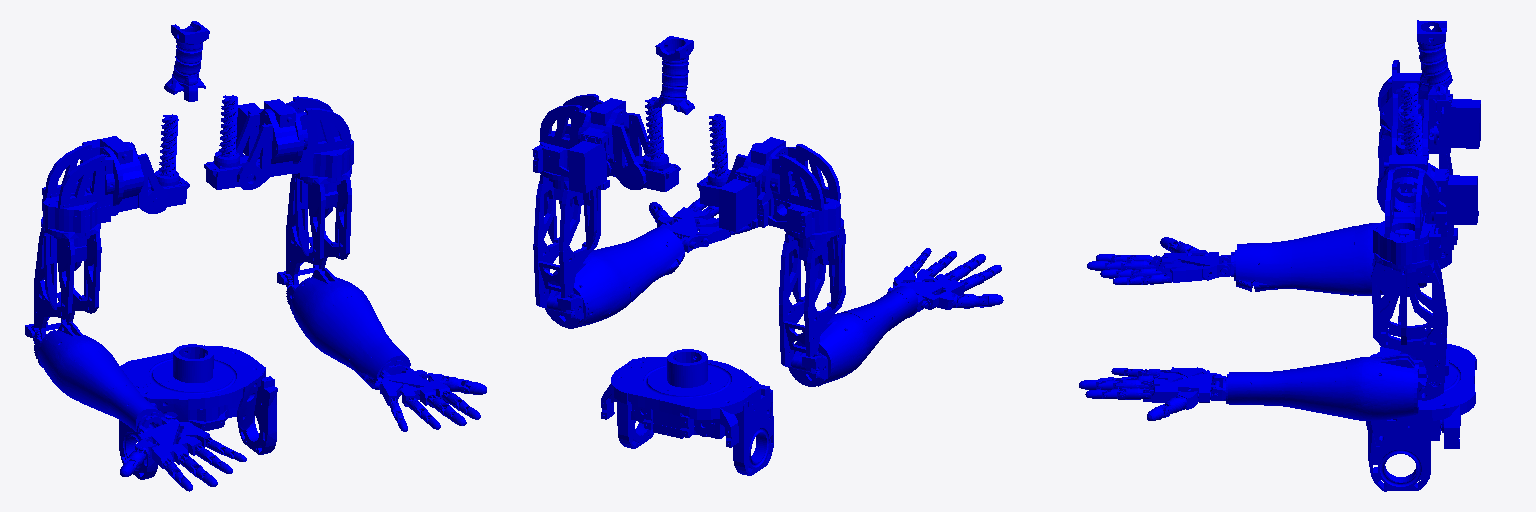
--- Render facts (derived) ---
3 views of the same robot in one strip: view 1: azimuth 30°, elevation 25°; view 2: azimuth 150°, elevation 25°; view 3: azimuth 270°, elevation 25° (orthographic).
Model RobotArm with 49 links and 48 joints (47 revolute, 1 fixed), rooted at base_link, posed joints at zero except 2 at the middle of their limits (joint_servobicipitesx2 = 0.15, joint_servobicipitedx2 = 0.25).
Visible links, largest first — view 1: base_link, avambracciosx_link, spallasx1_link, avambracciodx_link, bicipitedx_link, spalla2dx_link, bicipitesx_link, spalla1destra_link, spallasx2_link, handdx_link, collo_link, handsx_link; view 2: base_link, spallasx1_link, avambracciosx_link, bicipitedx_link, bicipitesx_link, spalla2dx_link, avambracciodx_link, spalla1destra_link, spallasx2_link, collo_link, handdx_link, handsx_link; view 3: avambracciosx_link, avambracciodx_link, base_link, bicipitesx_link, spallasx2_link, spalla1destra_link, spallasx1_link, collo_link, handdx_link, handsx_link, bicipitedx_link.
Link boxes in pixels (<box>): base_link: <box>119,344,277,479</box>; avambracciosx_link: <box>286,268,410,388</box>; spallasx1_link: <box>204,95,299,189</box>; avambracciodx_link: <box>34,321,165,431</box>; bicipitedx_link: <box>25,217,101,341</box>; spalla2dx_link: <box>42,143,123,232</box>; bicipitesx_link: <box>277,166,351,287</box>; spalla1destra_link: <box>82,114,189,213</box>; spallasx2_link: <box>286,96,353,177</box>; handdx_link: <box>137,412,213,468</box>; collo_link: <box>164,21,209,101</box>; handsx_link: <box>375,360,451,407</box>; base_link: <box>601,349,773,475</box>; spallasx1_link: <box>568,97,680,193</box>; avambracciosx_link: <box>545,227,684,328</box>; bicipitedx_link: <box>779,218,845,373</box>; bicipitesx_link: <box>533,171,600,313</box>; spalla2dx_link: <box>757,144,840,238</box>; avambracciodx_link: <box>788,286,917,386</box>; spalla1destra_link: <box>697,114,785,231</box>; spallasx2_link: <box>532,94,603,177</box>; collo_link: <box>653,36,694,114</box>; handdx_link: <box>887,266,966,317</box>; handsx_link: <box>660,206,713,252</box>; avambracciosx_link: <box>1228,354,1427,420</box>; avambracciodx_link: <box>1236,223,1426,295</box>; base_link: <box>1366,344,1476,491</box>; bicipitesx_link: <box>1371,253,1449,400</box>; spallasx2_link: <box>1373,166,1446,265</box>; spalla1destra_link: <box>1380,73,1480,159</box>; spallasx1_link: <box>1377,112,1478,228</box>; collo_link: <box>1417,20,1452,99</box>; handdx_link: <box>1150,250,1236,282</box>; handsx_link: <box>1142,367,1228,403</box>; bicipitedx_link: <box>1378,124,1457,268</box>.
Bounding box of the posed robot: 5.7 × 5.35 × 6.4 m (x, y, z).
44 mesh visuals loaded from 34 distinct referenced files (30 Collada DAE); not drawn: 5 (reference not matched to a file when rendering).

robot.urdf — RobotArm:
<?xml version="1.0"?>
<robot name="RobotArm">

    <material name="blue">                     
        <color rgba="0 0 1 1"/>
    </material>


    <link name="base_link">
        <visual>
            <geometry>
                 <mesh filename="package://inmoov_description/STL/stomaco_medio.dae" scale="0.009 0.009 0.009" />
            </geometry>
            <origin rpy="-1.56 3.12 3.13" xyz="1.86 0.02 1.94" />
            <material name="blue"/>
        </visual>
        <collision>
            <geometry>
               <mesh filename="package://inmoov_description/STL/stomaco_medio.dae" scale="0.009 0.009 0.009" />
            </geometry>
          <origin rpy="0 0 0" xyz="0 0 0" />
            <material name="blue"/>
        </collision>
    </link>

    <joint name="joint_stomaco" type="revolute">
        <parent link="base_link"/>
        <child link="stomaco_link"/>
      <origin rpy="-1.56 0.02 0" xyz="1.35 -0.37 2.05" />
        <axis xyz="0 1 0"/>
        <limit effort="1000" lower="-0.5" upper="0.5" velocity="5"/>
    </joint>

<link name="stomaco_link">
        <visual>
            <geometry>
                 <mesh filename="package://inmoov_description/STL/stomaco_alto.dae" scale="0.009 0.009 0.009" />
            </geometry>
            <origin rpy="0.05 0 0" xyz="-0.54 0.1 -0.35" />
            <material name="blue"/>
        </visual>
        <collision>
            <geometry>
               <mesh filename="package://inmoov_description/STL/stomaco_alto.dae" scale="0.009 0.009 0.009" />
            </geometry>
          <origin rpy="0 0 0" xyz="0 0 0" />
            <material name="blue"/>
        </collision>
    </link>

 <joint name="joint_torso" type="revolute">
        <parent link="stomaco_link"/>
        <child link="torso_link"/>
      <origin rpy="1.56 0.02 0" xyz="-0.05 -1 0" />
        <axis xyz="0 1 0"/>
        <limit effort="1000" lower="-0.15" upper="0.15" velocity="5"/>
    </joint>

<link name="torso_link">
        <visual>
            <geometry>
                 <mesh filename="package://inmoov_description/STL/busto.dae" scale="0.009 0.009 0.009" />
            </geometry>
            <origin rpy="0 0 0" xyz="0 -0.32 2.5" />
            <material name="blue"/>
        </visual>
        <collision>
            <geometry>
               <mesh filename="package://inmoov_description/STL/busto.dae" scale="0.009 0.009 0.009" />
            </geometry>
          <origin rpy="0 0 0" xyz="0 0 0" />
            <material name="blue"/>
        </collision>
    </link>

<joint name="joint_collo" type="fixed">
        <parent link="torso_link"/>
        <child link="collo_link"/>
      <origin rpy="1.56 0.02 0" xyz="0 0 0" />
        <axis xyz="0 1 0"/>
        <limit effort="1000" lower="-0.12" upper="0.12" velocity="5"/>
    </joint>

<link name="collo_link">
        <visual>
            <geometry>
                 <mesh filename="package://inmoov_description/STL/collo.dae" scale="0.009 0.009 0.009" />
            </geometry>
            <origin rpy="0 0 0" xyz="-0.069 4.055 -0.255" />
            <material name="blue"/>
        </visual>
        <collision>
            <geometry>
               <mesh filename="package://inmoov_description/STL/collo.dae" scale="0.009 0.009 0.009" />
            </geometry>
          <origin rpy="0 0 0" xyz="0 0 0" />
            <material name="blue"/>
        </collision>
    </link>

<joint name="joint_testa" type="revolute">
        <parent link="collo_link"/>
        <child link="testa_link"/>
      <origin rpy="0 0 0" xyz="-0.07 4.05 -0.21" />
        <axis xyz="1 0 0"/>
        <limit effort="1000" lower="-0.2" upper="0.2" velocity="5"/>
    </joint>

<link name="testa_link">
        <visual>
            <geometry>
                 <mesh filename="package://inmoov_description/STL/testa.dae" scale="0.009 0.009 0.009" />
            </geometry>
            <origin rpy="0 0 0" xyz="0 0 0" />
            <material name="blue"/>
        </visual>
        <collision>
            <geometry>
               <mesh filename="package://inmoov_description/STL/testa.dae" scale="0.009 0.009 0.009" />
            </geometry>
          <origin rpy="0 0 0" xyz="0 0 0" />
            <material name="blue"/>
        </collision>
    </link>


 
 <joint name="spallatorsosx2_joint" type="revolute">
        <parent link="torso_link"/>
        <child link="spallasx1_link"/>
      <origin rpy="0 0 0" xyz="1.25 0.535 2.6" />
        <axis xyz="0 1 0"/>
        <limit effort="1000" lower="-0.5" upper="0" velocity="5"/>
    </joint>

<link name="spallasx1_link">
        <visual>
            <geometry>
<mesh filename="package://inmoov_description/STL/spallasinistraparte2a.dae" scale="0.009 0.009 0.009" />
            </geometry>
            <origin rpy="4.7 4.747 -0.03" xyz="0.11 -1 -0.91" />
            <material name="blue"/>
        </visual>
        <collision>
            <geometry>
               <mesh filename="package://inmoov_description/STL/spallasinistraparte2a.dae" scale="0.009 0.009 0.009" />
            </geometry>
          <origin rpy="0 0 0" xyz="0 0 0" />
            <material name="blue"/>
        </collision>
    </link>

    <joint name="joint_spallasx" type="revolute">
        <parent link="spallasx1_link"/>
        <child link="spallasx2_link"/>
      <origin rpy="0 0 -0.02" xyz="0.61 -0.66 -0.31" />
        <axis xyz="1 0 0"/>
        <limit effort="1000" lower="-0.4" upper="0.4" velocity="5"/>
    </joint> 

<link name="spallasx2_link">
        <visual>
            <geometry>
<mesh filename="package://inmoov_description/STL/spallasxparte1b.dae" scale="0.009 0.009 0.009" />
            </geometry>
            <origin rpy="4.7 4.747 -0.03" xyz="-0.50 -0.34 -0.6" />
            <material name="blue"/>
        </visual>
        <collision>
            <geometry>
               <mesh filename="package://inmoov_description/STL/spallasxparte1b.dae" scale="0.009 0.009 0.009" />
            </geometry>
          <origin rpy="0 0 0" xyz="0 0 0" />
            <material name="blue"/>
        </collision>
    </link>

    <joint name="joint_bicipitesx" type="revolute">
        <parent link="spallasx2_link"/>
        <child link="bicipitesx_link"/>
      <origin rpy="0 0 0" xyz="0.165 0.06 -2.595" />
        <axis xyz="0 0 1"/>
        <limit effort="1000" lower="0" upper="0.5" velocity="5"/>
    </joint>  

  <link name="bicipitesx_link">
        <visual>
            <geometry>
                 <mesh filename="package://inmoov_description/STL/bicipitesxtelaio.dae" scale="0.009 0.009 0.009" />
            </geometry>
            <origin rpy="4.7 0 -0.03" xyz="-1.028 -0.36 2.01" />
            <material name="blue"/>
        </visual>
        <collision>
            <geometry>
               <mesh filename="package://inmoov_description/STL/bicipitesxtelaio.dae" scale="0.009 0.009 0.009" />
            </geometry>
          <origin rpy="0 0 0" xyz="0 0 0" />
            <material name="blue"/>
        </collision>
    </link>

<joint name="joint_servobicipitesx2" type="revolute">
        <parent link="avambracciosx_link"/>
        <child link="servobicipitesx_link"/>
      <origin rpy="0 0 0" xyz="-0.14 -0.15 0.4" />
        <axis xyz="1 0 0"/>
        <limit effort="1000" lower="0.15" upper="0.15" velocity="5"/>
    </joint> 

  <link name="servobicipitesx_link">
        <visual>
            <geometry>
                 <mesh filename="package://inmoov_description/STL/servomotoresinistrobicipite.dae" scale="0.009 0.009 0.009" />
            </geometry>
            <origin rpy="4.7 0 -0.03" xyz="-1.02 -0.455 1.64" />
            <material name="blue"/>
        </visual>
        <collision>
            <geometry>
               <mesh filename="package://inmoov_description/STL/servomotoresinistrobicipite.dae" scale="0.009 0.009 0.009" />
            </geometry>
          <origin rpy="0 0 0" xyz="0 0 0" />
            <material name="blue"/>
        </collision>
    </link>


    <joint name="joint_avambracciosx" type="revolute">
        <parent link="bicipitesx_link"/>
        <child link="avambracciosx_link"/>
      <origin rpy="0 0 0" xyz="0.16 0.23 -0.04" />
        <axis xyz="1 0 0"/>
        <limit effort="1000" lower="-0.3" upper="0" velocity="5"/>
    </joint>  

  <link name="avambracciosx_link">
        <visual>
            <geometry>
                 <mesh filename="package://inmoov_description/STL/avambraccio_sx.dae" scale="0.009 0.009 0.009" />
            </geometry>
            <origin rpy="0 8.75 0" xyz="-0.14 -0.11 -0.13" />
            <material name="blue"/>
        </visual>
        <collision>
            <geometry>
               <mesh filename="package://inmoov_description/STL/avambraccio_sx.dae" scale="0.009 0.009 0.009" />
            </geometry>
          <origin rpy="0 0 0" xyz="0 0 0" />
            <material name="blue"/>
        </collision>
    </link>

    <joint name="joint_mano_sx" type="revolute">
        <parent link="avambracciosx_link"/>
        <child link="handsx_link"/>
      <origin rpy="0 0 0" xyz="-0.34 -0.12 -0.13" />
        <axis xyz="0 1 0"/>
        <limit effort="1000" lower="-1.5" upper="0" velocity="5"/>
    </joint>

<link name="handsx_link">
        <visual>
            <geometry>
                 <mesh filename="package://inmoov_description/STL/mano_sinistra.dae" scale="0.009 0.009 0.009" />
            </geometry>
            <origin rpy="0 1.6 1.55" xyz="0.026 -2.47 0.03" />
            <material name="blue"/>
        </visual>
        <collision>
            <geometry>
               <mesh filename="package://inmoov_description/STL/mano_sinistra.dae" scale="0.009 0.009 0.009" />
            </geometry>
          <origin rpy="7 0 0" xyz="0 -2.4 0" />
            <material name="blue"/>
        </collision>
    </link>

    <joint name="joint_pollice1sx" type="revolute">
        <parent link="handsx_link"/>
        <child link="pollice1sx_link"/>
     <origin rpy="0 0 0" xyz="0.3 -3 0.05" />
        <axis xyz="0 1 0"/>
        <limit effort="1000" lower="-0.5" upper="0" velocity="5"/>
    </joint>


    <link name="pollice1sx_link">
        <visual>
            <geometry>
                 <mesh filename="package://inmoov_description/STL/pollice_sx_1.dae" scale="0.009 0.009 0.009" />
            </geometry>
            <origin rpy="0.25 1.5 1.7" xyz="0 0 0" />
            <material name="blue"/>
        </visual>
        <collision>
            <geometry>
               <mesh filename="package://inmoov_description/STL/pollice_sx_1.dae" scale="0.009 0.009 0.009" />
            </geometry>
           <origin rpy="-3.25 -12.5 3.2" xyz="0.2 -3 -0.2" />
            <material name="blue"/>
        </collision>
    </link>


    <joint name="joint_pollice2sx" type="revolute">
        <parent link="pollice1sx_link"/>
        <child link="pollice2sx_link"/>
        <origin rpy="4.9 1.3 1" xyz="0.2 -0.1 0" />
         <axis xyz="0 1 0"/>
 <limit effort="1000" lower="0" upper="1.5" velocity="5"/>
    </joint>


<link name="pollice2sx_link">
        <visual>
            <geometry>
                 <mesh filename="package://inmoov_description/STL/pollice_2.dae" scale="0.009 0.009 0.009" />
            </geometry>
            <origin xyz="0.0 0.0 0.0175"/>
            <material name="blue"/>
        </visual>
        <collision>
            <geometry>
               <mesh filename="package://inmoov_description/STL/pollice_2.dae" scale="0.009 0.009 0.009" />
            </geometry>
             <origin rpy="0 0 0" xyz="0 0 0" />
            <material name="blue"/>
        </collision>
    </link>

    <joint name="joint_pollice3sx" type="revolute">
        <parent link="pollice2sx_link"/>
        <child link="pollice3sx_link"/>
       <origin rpy="0 0 0" xyz="0 0 -0.3" />
        <axis xyz="0 1 0"/>
        <limit effort="1000" lower="0" upper="1.5" velocity="5"/>
    </joint>

<link name="pollice3sx_link">
        <visual>
            <geometry>
                 <mesh filename="package://inmoov_description/STL/pollice_3.dae" scale="0.009 0.009 0.009" />
            </geometry>
            <origin xyz="0 0 0"/>
            <material name="blue"/>
        </visual>
        <collision>
            <geometry>
               <mesh filename="package://inmoov_description/STL/pollice_3.dae" scale="0.009 0.009 0.009" />
            </geometry>
           <origin rpy="9.4 0 0" xyz="0 0 0" />
            <material name="blue"/>
        </collision>
    </link>    

    <joint name="joint_indice1sx" type="revolute">
        <parent link="handsx_link"/>
        <child link="indice1sx_link"/>
      <origin rpy="0 -4.7 -1.53" xyz="0.31 -3.553 0.08" />
      <axis xyz="0 1 0"/>
 <limit effort="1000" lower="-1" upper="0" velocity="5"/>
    </joint>

   <link name="indice1sx_link">
        <visual>
            <geometry>
                 <mesh filename="package://inmoov_description/STL/indice1.dae" scale="0.009 0.009 0.009" />
            </geometry>
             <origin rpy="0 0 0" xyz="0 0 0.32" />
            <material name="blue"/>
        </visual>
        <collision>
            <geometry>
               <mesh filename="package://inmoov_description/STL/indice1.dae" scale="0.009 0.009 0.009" />
            </geometry>
            <origin rpy="0 0 0" xyz="0 0 0.32" />
            <material name="blue"/>
        </collision>
    </link> 

    <joint name="joint_indice2sx" type="revolute">
        <parent link="indice1sx_link"/>
        <child link="indice2sx_link"/>
        <origin rpy="0 0 0" xyz="0 0 0.35" />
        <axis xyz="0 1 0"/>
         <limit effort="1000" lower="-1.5" upper="0" velocity="5"/>
    </joint>

    <link name="indice2sx_link">
        <visual>
            <geometry>
                 <mesh filename="package://inmoov_description/STL/indice2.dae" scale="0.009 0.009 0.009" />
            </geometry>
            <origin rpy="9.4 0 0" xyz="0 0 -0.025" />
            <material name="blue"/>
        </visual>
        <collision>
            <geometry>
               <mesh filename="package://inmoov_description/STL/indice2.dae" scale="0.009 0.009 0.009" />
            </geometry>
           <origin rpy="9.4 0 0" xyz="0 0 -0.025" />
            <material name="blue"/>
        </collision>
    </link> 

    <joint name="joint_indice3sx" type="revolute">
        <parent link="indice2sx_link"/>
        <child link="indice3sx_link"/>
      <origin rpy="0 0 0" xyz="0 0.005 0.2" />
      <axis xyz="0 1 0"/>
  <limit effort="1000" lower="-1.5" upper="0" velocity="5"/>
    </joint>

    <link name="indice3sx_link">
        <visual>
            <geometry>
                 <mesh filename="package://inmoov_description/STL/indice3.dae" scale="0.009 0.009 0.009" />
            </geometry>
            <origin rpy="9.4 0 0" xyz="0 0 -0.01" />
            <material name="blue"/>
        </visual>
        <collision>
            <geometry>
               <mesh filename="package://inmoov_description/STL/indice3.dae" scale="0.009 0.009 0.009" />
            </geometry>
             <origin rpy="9.4 0 0" xyz="0 0 -0.01" />
            <material name="blue"/>
        </collision>
    </link> 

    <joint name="joint_medio1sx" type="revolute">
        <parent link="handsx_link"/>
        <child link="medio1sx_link"/>
       <origin rpy="0 -4.7 -1.565" xyz="0.065 -3.58 0.08" />
        <axis xyz="0 1 0"/>
       <limit effort="1000" lower="-1.5" upper="0" velocity="5"/>
    </joint>

    <link name="medio1sx_link">
        <visual>
            <geometry>
                 <mesh filename="package://inmoov_description/STL/medio_1.dae" scale="0.009 0.009 0.009" />
            </geometry>
           <origin rpy="0 0 0" xyz="0 0 0.35" />
            <material name="blue"/>
        </visual>
        <collision>
            <geometry>
               <mesh filename="package://inmoov_description/STL/medio_1.dae" scale="0.009 0.009 0.009" />
            </geometry>
             <origin rpy="0 0 0" xyz="0 0 0.35" />
            <material name="blue"/>
        </collision>
    </link> 

    <joint name="joint_medio2sx" type="revolute">
        <parent link="medio1sx_link"/>
        <child link="medio2sx_link"/>
          <origin rpy="0 0 0" xyz="0 0 0.35" />
        <axis xyz="0 1 0"/>
         <limit effort="1000" lower="-1.5" upper="0" velocity="5"/>
    </joint>

    <link name="medio2sx_link">
        <visual>
            <geometry>
                 <mesh filename="package://inmoov_description/STL/medio_2.dae" scale="0.009 0.009 0.009" />
            </geometry>
              <origin rpy="9.4 0 0" xyz="0 0 0.015" />
            <material name="blue"/>
        </visual>
        <collision>
            <geometry>
               <mesh filename="package://inmoov_description/STL/medio_2.dae" scale="0.009 0.009 0.009" />
            </geometry>
             <origin rpy="9.4 0 0" xyz="0 0 0.015" />
            <material name="blue"/>
        </collision>
    </link> 

    <joint name="joint_medio3sx" type="revolute">
        <parent link="medio2sx_link"/>
        <child link="medio3sx_link"/>
         <origin rpy="0 0 0" xyz="0 0 0.22" />
      <axis xyz="0 1 0"/>
  <limit effort="1000" lower="-1.5" upper="0" velocity="5"/>
    </joint>

    <link name="medio3sx_link">
        <visual>
            <geometry>
                 <mesh filename="package://inmoov_description/STL/medio_3.dae" scale="0.009 0.009 0.009" />
            </geometry>
             <origin rpy="9.4 0 0" xyz="0 0 0.02" />
            <material name="blue"/>
        </visual>
        <collision>
            <geometry>
               <mesh filename="package://inmoov_description/STL/medio_3.dae" scale="0.009 0.009 0.009" />
            </geometry>
             <origin rpy="9.4 0 0" xyz="0 0 0.02" />
            <material name="blue"/>
        </collision>
    </link> 

   <joint name="joint_anularesx1" type="revolute">
        <parent link="handsx_link"/>
        <child link="anulare1sx_link"/>
       <origin rpy="-0.7 1.5 1.5" xyz="0 -3.2 0.05" />
        <axis xyz="0 0 1"/>
           <limit effort="1000" lower="0" upper="0.5" velocity="5"/>
    </joint>

    <link name="anulare1sx_link">
        <visual>
            <geometry>
                 <mesh filename="package://inmoov_description/STL/anulare_sx_1.dae" scale="0.009 0.009 0.009" />
            </geometry>
           <origin rpy="0 0 0" xyz="0 0 0.05" />
            <material name="blue"/>
        </visual>
        <collision>
            <geometry>
               <mesh filename="package://inmoov_description/STL/anulare_sx_1.dae" scale="0.009 0.009 0.009" />
            </geometry>
             <origin rpy="0 0 0" xyz="0 0 0.35" />
            <material name="blue"/>
        </collision>
    </link> 

    <joint name="joint_anulare2sx" type="revolute">
        <parent link="anulare1sx_link"/>
        <child link="anulare2sx_link"/>
          <origin rpy="-2.5 0 0" xyz="0 0.3 -0.08" />
        <axis xyz="0 1 0"/>
         <limit effort="1000" lower="-1.5" upper="0" velocity="5"/>
    </joint>

    <link name="anulare2sx_link">
        <visual>
            <geometry>
                 <mesh filename="package://inmoov_description/STL/anulare_2.dae" scale="0.009 0.009 0.009" />
            </geometry>
              <origin rpy="9.4 0 0" xyz="0 0 0" />
            <material name="blue"/>
        </visual>
        <collision>
            <geometry>
               <mesh filename="package://inmoov_description/STL/anulare_2.dae" scale="0.009 0.009 0.009" />
            </geometry>
             <origin rpy="9.4 0 0" xyz="0 0 0" />
            <material name="blue"/>
        </collision>
    </link> 

    <joint name="joint_anulare3sx" type="revolute">
        <parent link="anulare2sx_link"/>
        <child link="anulare3sx_link"/>
         <origin rpy="0 0 0" xyz="0 0 0.32" />
      <axis xyz="0 1 0"/>
  <limit effort="1000" lower="-1.5" upper="0" velocity="5"/>
    </joint>

    <link name="anulare3sx_link">
        <visual>
            <geometry>
                 <mesh filename="package://inmoov_description/STL/anulare_3.dae" scale="0.009 0.009 0.009" />
            </geometry>
             <origin rpy="9.4 0 0" xyz="0 0 0" />
            <material name="blue"/>
        </visual>
        <collision>
            <geometry>
               <mesh filename="package://inmoov_description/STL/anulare_3.dae" scale="0.009 0.009 0.009" />
            </geometry>
             <origin rpy="9.4 0 0" xyz="0 0 0.02" />
            <material name="blue"/>
        </collision>
    </link> 

 <joint name="joint_anulare4sx" type="revolute">
        <parent link="anulare3sx_link"/>
        <child link="anulare4sx_link"/>
         <origin rpy="0 0 0" xyz="0 0 0.22" />
      <axis xyz="0 1 0"/>
  <limit effort="1000" lower="-1.5" upper="0" velocity="5"/>
    </joint>

    <link name="anulare4sx_link">
        <visual>
            <geometry>
                 <mesh filename="package://inmoov_description/STL/anulare_4.dae" scale="0.009 0.009 0.009" />
            </geometry>
             <origin rpy="9.4 0 0" xyz="0 0 0" />
            <material name="blue"/>
        </visual>
        <collision>
            <geometry>
               <mesh filename="package://inmoov_description/STL/anulare_4.dae" scale="0.009 0.009 0.009" />
            </geometry>
             <origin rpy="9.4 0 0" xyz="0 0 0" />
            <material name="blue"/>
        </collision>
    </link> 

 <joint name="joint_mignolosx" type="revolute">
        <parent link="handsx_link"/>
        <child link="link_mignoloprimosx"/>
       <origin rpy="-0.7 1.48 1.5" xyz="-0.2 -2.9 0.05" />
        <axis xyz="0 0 1"/>
        <limit effort="1000" lower="0" upper="0.5" velocity="5"/>
    </joint>

    <link name="link_mignoloprimosx">
        <visual>
            <geometry>
                 <mesh filename="package://inmoov_description/STL/mignolo_sx_1.dae" scale="0.009 0.009 0.009" />
            </geometry>
           <origin rpy="0 0 0" xyz="0 0 0" />
            <material name="blue"/>
        </visual>
        <collision>
            <geometry>
               <mesh filename="package://inmoov_description/STL/mignolo_sx_1.dae" scale="0.009 0.009 0.009" />
            </geometry>
             <origin rpy="0 0 0" xyz="0 0 0" />
            <material name="blue"/>
        </collision>
    </link> 

<joint name="joint_mignolo2sx" type="revolute">
        <parent link="link_mignoloprimosx"/>
        <child link="link_mignolosecondosx"/>
       <origin rpy="0.9 0 0" xyz="0 0.45 -0.23" />
        <axis xyz="0 1 0"/>
         <limit effort="1000" lower="0" upper="1.5" velocity="5"/>
    </joint>

    <link name="link_mignolosecondosx">
        <visual>
            <geometry>
                 <mesh filename="package://inmoov_description/STL/mignolo_2.dae" scale="0.009 0.009 0.009" />
            </geometry>
           <origin rpy="0 0 0" xyz="0 0 0" />
            <material name="blue"/>
        </visual>
        <collision>
            <geometry>
               <mesh filename="package://inmoov_description/STL/mignolo_2.dae" scale="0.009 0.009 0.009" />
            </geometry>
             <origin rpy="0 0 0" xyz="0 0 0" />
            <material name="blue"/>
        </collision>
    </link> 

<joint name="joint_mignolo3sx" type="revolute">
        <parent link="link_mignolosecondosx"/>
        <child link="link_mignoloterzosx"/>
       <origin rpy="0 0 0" xyz="0 0 -0.3" />
        <axis xyz="0 1 0"/>
          <limit effort="1000" lower="0" upper="1.5" velocity="5"/>
    </joint>

    <link name="link_mignoloterzosx">
        <visual>
            <geometry>
                 <mesh filename="package://inmoov_description/STL/mignolo_3.dae" scale="0.009 0.009 0.009" />
            </geometry>
           <origin rpy="0 0 0" xyz="0 0 0" />
            <material name="blue"/>
        </visual>
        <collision>
            <geometry>
               <mesh filename="package://inmoov_description/STL/mignolo_3.dae" scale="0.009 0.009 0.009" />
            </geometry>
             <origin rpy="0 0 0" xyz="0 0 0" />
            <material name="blue"/>
        </collision>
    </link> 

<joint name="joint_mignolo4sx" type="revolute">
        <parent link="link_mignoloterzosx"/>
        <child link="link_mignoloquartosx"/>
       <origin rpy="0 0 0" xyz="0 0 -0.2" />
        <axis xyz="0 1 0"/>
          <limit effort="1000" lower="0" upper="1.5" velocity="5"/>
    </joint>

    <link name="link_mignoloquartosx">
        <visual>
            <geometry>
                 <mesh filename="package://inmoov_description/STL/mignolo_4.dae" scale="0.009 0.009 0.009" />
            </geometry>
           <origin rpy="0 0 0" xyz="0 0 0" />
            <material name="blue"/>
        </visual>
        <collision>
            <geometry>
               <mesh filename="package://inmoov_description/STL/mignolo_4.dae" scale="0.009 0.009 0.009" />
            </geometry>
             <origin rpy="0 0 0" xyz="0 0 0" />
            <material name="blue"/>
        </collision>
    </link> 



 <joint name="spallatorsodx_joint" type="revolute">
        <parent link="torso_link"/>
        <child link="spalla1destra_link"/>
      <origin rpy="0 0 0" xyz="-1.3 0.535 2.6" />
        <axis xyz="0 1 0"/>
        <limit effort="1000" lower="0" upper="0.5" velocity="5"/>
    </joint>

<link name="spalla1destra_link">
        <visual>
            <geometry>
<mesh filename="package://inmoov_description/STL/spalladestra2b.dae" scale="0.009 0.009 0.009" />
            </geometry>
            <origin rpy="4.7 -4.726 -0.03" xyz="-0.1 -1 0.08" />
            <material name="blue"/>
        </visual>
        <collision>
            <geometry>
               <mesh filename="package://inmoov_description/STL/spalladestra2b.dae" scale="0.009 0.009 0.009" />
            </geometry>
          <origin rpy="0 0 0" xyz="0 0 0" />
            <material name="blue"/>
        </collision>
    </link>

    <joint name="joint_spalladx" type="revolute">
        <parent link="spalla1destra_link"/>
        <child link="spalla2dx_link"/>
      <origin rpy="0 0 -0.02" xyz="0.4 -0.66 -0.41" />
        <axis xyz="1 0 0"/>
        <limit effort="1000" lower="-0.4" upper="0.4" velocity="5"/>
    </joint> 

<link name="spalla2dx_link">
        <visual>
            <geometry>
<mesh filename="package://inmoov_description/STL/spalladestra1a.dae" scale="0.009 0.009 0.009" />
            </geometry>
            <origin rpy="4.7 -4.726 -0.03" xyz="-0.50 -0.39 0.5" />
            <material name="blue"/>
        </visual>
        <collision>
            <geometry>
               <mesh filename="package://inmoov_description/STL/spalladestra1a.dae" scale="0.009 0.009 0.009" />
            </geometry>
          <origin rpy="0 0 0" xyz="0 0 0" />
            <material name="blue"/>
        </collision>
    </link>

    <joint name="joint_bicipitedx" type="revolute">
        <parent link="spalla2dx_link"/>
        <child link="bicipitedx_link"/>
      <origin rpy="0 0 0" xyz="-1.027 0.04 -2.686" />
        <axis xyz="0 0 1"/>
        <limit effort="1000" lower="-0.5" upper="0" velocity="5"/>
    </joint>  


  <link name="bicipitedx_link">
        <visual>
            <geometry>
                 <mesh filename="package://inmoov_description/STL/bicipitedestrotelaio.dae" scale="0.009 0.009 0.009" />
            </geometry>
            <origin rpy="14.13 0 -4.7" xyz="-0.46 -0.43 2.165" />
            <material name="blue"/>
        </visual>
        <collision>
            <geometry>
               <mesh filename="package://inmoov_description/STL/bicipitedestrotelaio.dae" scale="0.009 0.009 0.009" />
            </geometry>
          <origin rpy="0 0 0" xyz="0 0 0" />
            <material name="blue"/>
        </collision>
    </link>

<joint name="joint_servobicipitedx2" type="revolute">
        <parent link="avambracciodx_link"/>
        <child link="servobicipitedx_link"/>
      <origin rpy="0 0 0" xyz="-0.24 -0.15 0.4" />
        <axis xyz="1 0 0"/>
        <limit effort="1000" lower="0.25" upper="0.25" velocity="5"/>
    </joint> 

  <link name="servobicipitedx_link">
        <visual>
            <geometry>
                 <mesh filename="package://inmoov_description/STL/servomotoresinistrobicipite.dae" scale="0.009 0.009 0.009" />
            </geometry>
            <origin rpy="4.7 0 -0.03" xyz="-0.73 -0.44 1.62" />
            <material name="blue"/>
        </visual>
        <collision>
            <geometry>
               <mesh filename="package://inmoov_description/STL/servomotoresinistrobicipite.dae" scale="0.009 0.009 0.009" />
            </geometry>
          <origin rpy="0 0 0" xyz="0 0 0" />
            <material name="blue"/>
        </collision>
    </link>

 <joint name="joint_avambracciodx" type="revolute">
        <parent link="bicipitedx_link"/>
        <child link="avambracciodx_link"/>
     <origin rpy="0 0 0" xyz="-0.04 0.25 0.15" />
        <axis xyz="1 0 0"/>
        <limit effort="1000" lower="-0.4" upper="0" velocity="5"/>
    </joint>  

<link name="avambracciodx_link">
        <visual>
            <geometry>
                 <mesh filename="package://inmoov_description/STL/avambracciodestro.dae" scale="0.009 0.009 0.009" />
            </geometry>
            <origin rpy="0 10.16 0" xyz="1.1 -0.07 -0.74" />
            <material name="blue"/>
        </visual>
        <collision>
            <geometry>
               <mesh filename="package://inmoov_description/STL/avambracciodestro.dae" scale="0.009 0.009 0.009" />
            </geometry>
          <origin rpy="0 0 0" xyz="0 0 0" />
            <material name="blue"/>
        </collision>
    </link>

    <joint name="joint_mano_dx" type="revolute">
        <parent link="avambracciodx_link"/>
        <child link="handdx_link"/>
      <origin rpy="0 3 0" xyz="0.06 -0.11 -0.1" />
        <axis xyz="0 1 0"/>
        <limit effort="1000" lower="0" upper="1.5" velocity="5"/>
    </joint>

<link name="handdx_link">
        <visual>
            <geometry>
                 <mesh filename="package://inmoov_description/STL/manodestra.dae" scale="0.009 0.009 0.009" />
            </geometry>
            <origin rpy="0 1.6 1.55" xyz="0.026 -2.47 0.03" />
            <material name="blue"/>
        </visual>
        <collision>
            <geometry>
               <mesh filename="package://inmoov_description/STL/manodestra.dae" scale="0.009 0.009 0.009" />
            </geometry>
          <origin rpy="7 0 0" xyz="0 -2.4 0" />
            <material name="blue"/>
        </collision>
    </link>

    <joint name="joint_pollicedx1" type="revolute">
        <parent link="handdx_link"/>
        <child link="pollice1dx_link"/>
     <origin rpy="0 0 0" xyz="0.3 -3 0.05" />
        <axis xyz="0 1 0"/>
       <limit effort="1000" lower="0" upper="1.5" velocity="5"/>
    </joint>


    <link name="pollice1dx_link">
        <visual>
            <geometry>
                 <mesh filename="package://inmoov_description/STL/pollice_destro3.dae" scale="0.009 0.009 0.009" />
            </geometry>
            <origin rpy="-0.01 0.25 0.9" xyz="0.53 -0.43 0.3" />
            <material name="blue"/>
        </visual>
        <collision>
            <geometry>
               <mesh filename="package://inmoov_description/STL/pollice_destro3.dae" scale="0.009 0.009 0.009" />
            </geometry>
           <origin rpy="0 0 0" xyz="0 0 0" />
            <material name="blue"/>
        </collision>
    </link>


    <joint name="joint_pollicedx2" type="revolute">
        <parent link="pollice1dx_link"/>
        <child link="pollice2dx_link"/>
        <origin rpy="4.9 5 0.65" xyz="0.25 -0.1 0" />
         <axis xyz="0 1 0"/>
<limit effort="1000" lower="0" upper="1.5" velocity="5"/>
    </joint>


<link name="pollice2dx_link">
        <visual>
            <geometry>
                 <mesh filename="package://inmoov_description/STL/pollice_2.dae" scale="0.009 0.009 0.009" />
            </geometry>
            <origin xyz="0.0 0.0 0.0175"/>
            <material name="blue"/>
        </visual>
        <collision>
            <geometry>
               <mesh filename="package://inmoov_description/STL/pollice_2.dae" scale="0.009 0.009 0.009" />
            </geometry>
             <origin rpy="0 0 0" xyz="0 0 0" />
            <material name="blue"/>
        </collision>
    </link>

    <joint name="joint_pollicedx3" type="revolute">
        <parent link="pollice2dx_link"/>
        <child link="pollice3dx_link"/>
       <origin rpy="0 0 0" xyz="0 0 -0.3" />
        <axis xyz="0 1 0"/>
        <limit effort="1000" lower="0" upper="1.5" velocity="5"/>
    </joint>

<link name="pollice3dx_link">
        <visual>
            <geometry>
                 <mesh filename="package://inmoov_description/STL/pollice_3.dae" scale="0.009 0.009 0.009" />
            </geometry>
            <origin xyz="0 0 0"/>
            <material name="blue"/>
        </visual>
        <collision>
            <geometry>
               <mesh filename="package://inmoov_description/STL/pollice_3.dae" scale="0.009 0.009 0.009" />
            </geometry>
           <origin rpy="9.4 0 0" xyz="0 0 0" />
            <material name="blue"/>
        </collision>
    </link>    

    <joint name="joint_indicedx1" type="revolute">
        <parent link="handdx_link"/>
        <child link="indicedx1_link"/>
      <origin rpy="-3.06 4.7 -1.53" xyz="0.31 -3.553 0.08" />
      <axis xyz="0 1 0"/>
 <limit effort="1000" lower="-1.5" upper="0" velocity="5"/>
    </joint>

   <link name="indicedx1_link">
        <visual>
            <geometry>
                 <mesh filename="package://inmoov_description/STL/indice1.dae" scale="0.009 0.009 0.009" />
            </geometry>
             <origin rpy="0 0 0" xyz="0 0 0.32" />
            <material name="blue"/>
        </visual>
        <collision>
            <geometry>
               <mesh filename="package://inmoov_description/STL/indice1.dae" scale="0.009 0.009 0.009" />
            </geometry>
            <origin rpy="0 0 0" xyz="0 0 0.32" />
            <material name="blue"/>
        </collision>
    </link> 

    <joint name="joint_indicedx2" type="revolute">
        <parent link="indicedx1_link"/>
        <child link="indicedx2_link"/>
        <origin rpy="0 0 0" xyz="0 0 0.35" />
        <axis xyz="0 1 0"/>
        <limit effort="1000" lower="-1.5" upper="0" velocity="5"/>
    </joint>

    <link name="indicedx2_link">
        <visual>
            <geometry>
                 <mesh filename="package://inmoov_description/STL/indice2.dae" scale="0.009 0.009 0.009" />
            </geometry>
            <origin rpy="9.4 0 0" xyz="0 0 -0.025" />
            <material name="blue"/>
        </visual>
        <collision>
            <geometry>
               <mesh filename="package://inmoov_description/STL/indice2.dae" scale="0.009 0.009 0.009" />
            </geometry>
           <origin rpy="9.4 0 0" xyz="0 0 -0.025" />
            <material name="blue"/>
        </collision>
    </link> 

    <joint name="joint_indicedx3" type="revolute">
        <parent link="indicedx2_link"/>
        <child link="indicedx3_link"/>
      <origin rpy="0 0 0" xyz="0 0.005 0.2" />
      <axis xyz="0 1 0"/>
 <limit effort="1000" lower="-1.5" upper="0" velocity="5"/>
    </joint>

    <link name="indicedx3_link">
        <visual>
            <geometry>
                 <mesh filename="package://inmoov_description/STL/indice3.dae" scale="0.009 0.009 0.009" />
            </geometry>
            <origin rpy="9.4 0 0" xyz="0 0 -0.01" />
            <material name="blue"/>
        </visual>
        <collision>
            <geometry>
               <mesh filename="package://inmoov_description/STL/indice3.dae" scale="0.009 0.009 0.009" />
            </geometry>
             <origin rpy="9.4 0 0" xyz="0 0 -0.01" />
            <material name="blue"/>
        </collision>
    </link> 

    <joint name="joint_mediodx1" type="revolute">
        <parent link="handdx_link"/>
        <child link="mediodx1_link"/>
       <origin rpy="-3.14 4.7 -1.565" xyz="0.065 -3.58 0.08" />
        <axis xyz="0 1 0"/>
       <limit effort="1000" lower="-1.5" upper="0" velocity="5"/>
    </joint>

    <link name="mediodx1_link">
        <visual>
            <geometry>
                 <mesh filename="package://inmoov_description/STL/medio_1.dae" scale="0.009 0.009 0.009" />
            </geometry>
           <origin rpy="0 0 0" xyz="0 0 0.35" />
            <material name="blue"/>
        </visual>
        <collision>
            <geometry>
               <mesh filename="package://inmoov_description/STL/medio_1.dae" scale="0.009 0.009 0.009" />
            </geometry>
             <origin rpy="0 0 0" xyz="0 0 0.35" />
            <material name="blue"/>
        </collision>
    </link> 

    <joint name="joint_mediodx2" type="revolute">
        <parent link="mediodx1_link"/>
        <child link="mediodx2_link"/>
          <origin rpy="0 0 0" xyz="0 0 0.35" />
        <axis xyz="0 1 0"/>
        <limit effort="1000" lower="-1.5" upper="0" velocity="5"/>
    </joint>

    <link name="mediodx2_link">
        <visual>
            <geometry>
                 <mesh filename="package://inmoov_description/STL/medio_2.dae" scale="0.009 0.009 0.009" />
            </geometry>
              <origin rpy="9.4 0 0" xyz="0 0 0.015" />
            <material name="blue"/>
        </visual>
        <collision>
            <geometry>
               <mesh filename="package://inmoov_description/STL/medio_2.dae" scale="0.009 0.009 0.009" />
            </geometry>
             <origin rpy="9.4 0 0" xyz="0 0 0.015" />
            <material name="blue"/>
        </collision>
    </link> 

    <joint name="joint_mediodx3" type="revolute">
        <parent link="mediodx2_link"/>
        <child link="mediodx3_link"/>
         <origin rpy="0 0 0" xyz="0 0 0.22" />
      <axis xyz="0 1 0"/>
 <limit effort="1000" lower="-1.5" upper="0" velocity="5"/>    
   </joint>

    <link name="mediodx3_link">
        <visual>
            <geometry>
                 <mesh filename="package://inmoov_description/STL/medio_3.dae" scale="0.009 0.009 0.009" />
            </geometry>
             <origin rpy="9.4 0 0" xyz="0 0 0.02" />
            <material name="blue"/>
        </visual>
        <collision>
            <geometry>
               <mesh filename="package://inmoov_description/STL/medio_3.dae" scale="0.009 0.009 0.009" />
            </geometry>
             <origin rpy="9.4 0 0" xyz="0 0 0.02" />
            <material name="blue"/>
        </collision>
    </link> 


     <joint name="joint_anularedx1" type="revolute">
        <parent link="handdx_link"/>
        <child link="anulare1dx_link"/>
       <origin rpy="-3.22 4.7 -1.565" xyz="-0.22 -3.495 0.08" />
        <axis xyz="0 1 0"/>
        <limit effort="1000" lower="-1.5" upper="0" velocity="5"/>
    </joint>

    <link name="anulare1dx_link">
        <visual>
            <geometry>
                 <mesh filename="package://inmoov_description/STL/anulare_2.dae" scale="0.009 0.009 0.009" />
            </geometry>
              <origin rpy="9.4 0 0" xyz="0 0 0" />
            <material name="blue"/>
        </visual>
        <collision>
            <geometry>
               <mesh filename="package://inmoov_description/STL/anulare_2.dae" scale="0.009 0.009 0.009" />
            </geometry>
             <origin rpy="9.4 0 0" xyz="0 0 0" />
            <material name="blue"/>
        </collision>
    </link> 

    <joint name="joint_anularedx2" type="revolute">
        <parent link="anulare1dx_link"/>
        <child link="anulare2dx_link"/>
         <origin rpy="0 0 0" xyz="0 0 0.32" />
      <axis xyz="0 1 0"/>
 <limit effort="1000" lower="-1.5" upper="0" velocity="5"/>
    </joint>

    <link name="anulare2dx_link">
        <visual>
            <geometry>
                 <mesh filename="package://inmoov_description/STL/anulare_3.dae" scale="0.009 0.009 0.009" />
            </geometry>
             <origin rpy="9.4 0 0" xyz="0 0 0" />
            <material name="blue"/>
        </visual>
        <collision>
            <geometry>
               <mesh filename="package://inmoov_description/STL/anulare_3.dae" scale="0.009 0.009 0.009" />
            </geometry>
             <origin rpy="9.4 0 0" xyz="0 0 0.02" />
            <material name="blue"/>
        </collision>
    </link> 

 <joint name="joint_anularedx3" type="revolute">
        <parent link="anulare2dx_link"/>
        <child link="anulare3dx_link"/>
         <origin rpy="0 0 0" xyz="0 0 0.2" />
      <axis xyz="0 1 0"/>
<limit effort="1000" lower="-1.5" upper="0" velocity="5"/>
    </joint>

    <link name="anulare3dx_link">
        <visual>
            <geometry>
                 <mesh filename="package://inmoov_description/STL/anulare_4.dae" scale="0.009 0.009 0.009" />
            </geometry>
             <origin rpy="9.4 0 0" xyz="0 0 0" />
            <material name="blue"/>
        </visual>
        <collision>
            <geometry>
               <mesh filename="package://inmoov_description/STL/anulare_4.dae" scale="0.009 0.009 0.009" />
            </geometry>
             <origin rpy="9.4 0 0" xyz="0 0 0" />
            <material name="blue"/>
        </collision>
    </link> 


 <joint name="joint_mignolodx1" type="revolute">
        <parent link="handdx_link"/>
        <child link="linkdx_mignoloprimo"/>
       <origin rpy="-0.225 4.7 -1.565" xyz="-0.437 -3.38 0.08" />
        <axis xyz="0 1 0"/>
       <limit effort="1000" lower="0" upper="1.5" velocity="5"/>
    </joint>

    <link name="linkdx_mignoloprimo">
        <visual>
            <geometry>
                 <mesh filename="package://inmoov_description/STL/mignolo_2.dae" scale="0.009 0.009 0.009" />
            </geometry>
           <origin rpy="0 0 0" xyz="0 0 0" />
            <material name="blue"/>
        </visual>
        <collision>
            <geometry>
               <mesh filename="package://inmoov_description/STL/mignolo_2.dae" scale="0.009 0.009 0.009" />
            </geometry>
             <origin rpy="0 0 0" xyz="0 0 0" />
            <material name="blue"/>
        </collision>
    </link> 

<joint name="joint_mignolodx2" type="revolute">
        <parent link="linkdx_mignoloprimo"/>
        <child link="linkdx_mignolosecondo"/>
       <origin rpy="0 0 0" xyz="0 0 -0.3" />
        <axis xyz="0 1 0"/>
       <limit effort="1000" lower="0" upper="1.5" velocity="5"/>
    </joint>

    <link name="linkdx_mignolosecondo">
        <visual>
            <geometry>
                 <mesh filename="package://inmoov_description/STL/mignolo_3.dae" scale="0.009 0.009 0.009" />
            </geometry>
           <origin rpy="0 0 0" xyz="0 0 0" />
            <material name="blue"/>
        </visual>
        <collision>
            <geometry>
               <mesh filename="package://inmoov_description/STL/mignolo_3.dae" scale="0.009 0.009 0.009" />
            </geometry>
             <origin rpy="0 0 0" xyz="0 0 0" />
            <material name="blue"/>
        </collision>
    </link> 

<joint name="joint_mignolodx3" type="revolute">
        <parent link="linkdx_mignolosecondo"/>
        <child link="linkdx_mignoloterzo"/>
       <origin rpy="0 0 0" xyz="0 0 -0.2" />
        <axis xyz="0 1 0"/>
        <limit effort="1000" lower="0" upper="1.5" velocity="5"/>
    </joint>

    <link name="linkdx_mignoloterzo">
        <visual>
            <geometry>
                 <mesh filename="package://inmoov_description/STL/mignolo_4.dae" scale="0.009 0.009 0.009" />
            </geometry>
           <origin rpy="0 0 0" xyz="0 0 0" />
            <material name="blue"/>
        </visual>
        <collision>
            <geometry>
               <mesh filename="package://inmoov_description/STL/mignolo_4.dae" scale="0.009 0.009 0.009" />
            </geometry>
             <origin rpy="0 0 0" xyz="0 0 0" />
            <material name="blue"/>
        </collision>
    </link> 


     
</robot>
